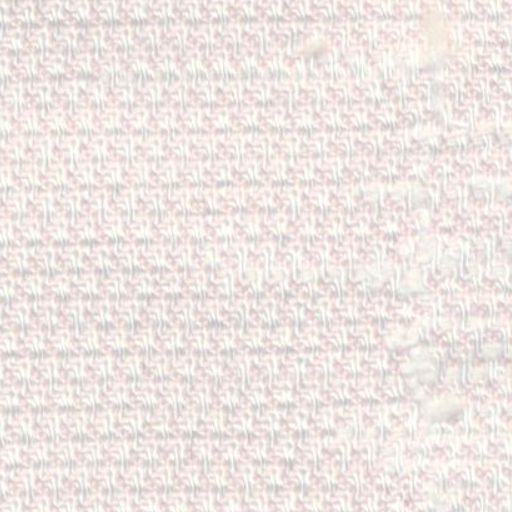DuanSha: (300, 11, 496, 499)
